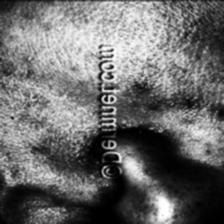Non-Cancerous Skin Condition: (178, 98, 196, 112), (132, 82, 150, 92), (147, 101, 163, 110)
